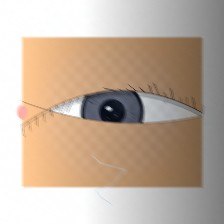foreign_body_visible: (60, 124, 78, 138)
